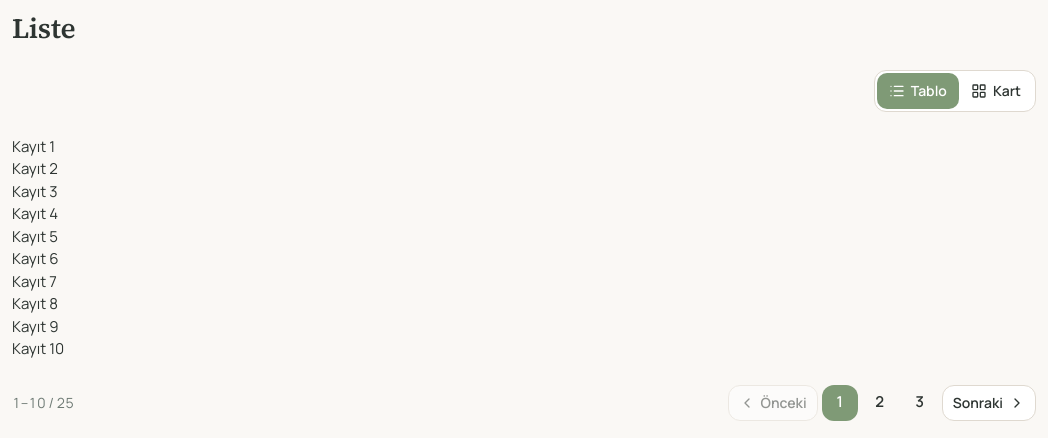
Test: DataPage › client sayfalama dilimliyor ve sayfalar arasında geziyor
Expected: the text "Kayıt 10" is shown, [12,338,1036,361]
Expected: the text "1–10 / 25" is shown, [12,393,74,413]
Click the button named "3. sayfa".
click(920, 403)  # box [902,385,938,421]
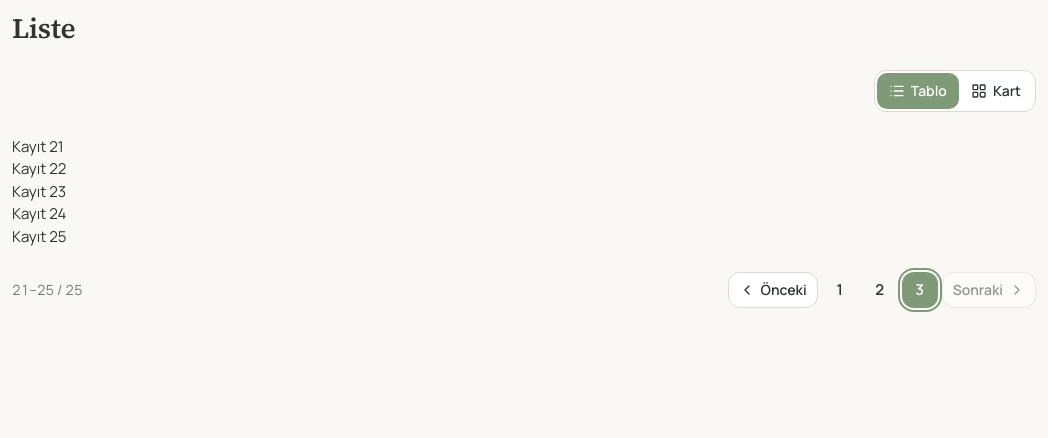
Now the text "Kayıt 25" is shown, box [12,226,1036,248]
Now the text "Kayıt 10" is gone
Now the button "Sonraki" is disabled, box [942,272,1036,308]
